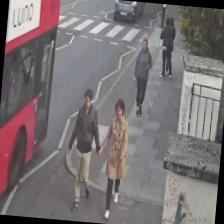person: (62, 86, 106, 212), (96, 97, 130, 219), (130, 36, 154, 116)
